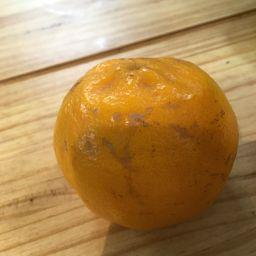Unripe: (55, 55, 243, 233)
